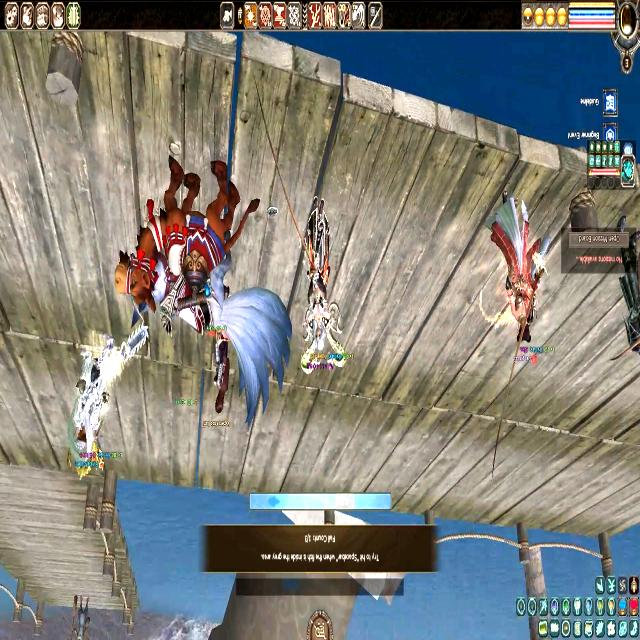fishes: (267, 496, 279, 508)
